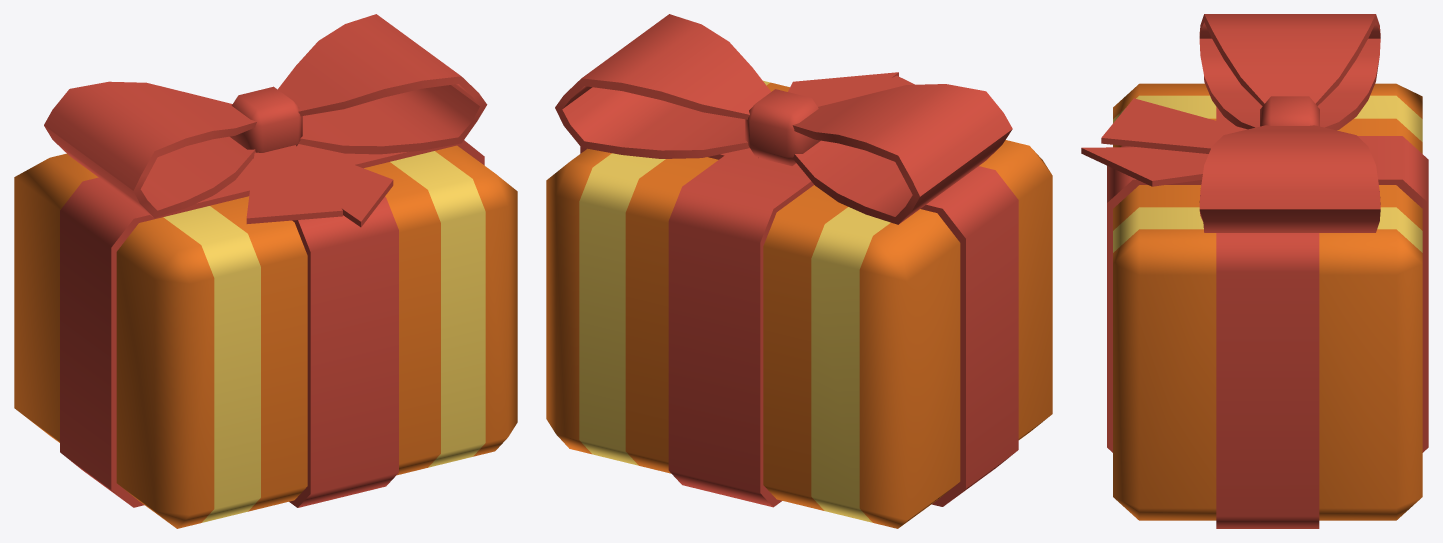
The model's file is Gift_13_231109.glb.
3 views of the same model, side by side, from view 1: azimuth 30°, elevation 25°; view 2: azimuth 150°, elevation 25°; view 3: azimuth 270°, elevation 25° (orthographic). The views are drawn at different scales.
Parts seen in each view (by area): view 1: Gift_13; view 2: Gift_13; view 3: Gift_13.
Part boxes in pixels (left/top/right/bottom): Gift_13: left=14, top=14, right=517, bottom=528; Gift_13: left=546, top=14, right=1052, bottom=528; Gift_13: left=1081, top=14, right=1428, bottom=528.
Size of the model in its own units: 0.5129 by 0.4708 by 0.4095.
Materials: 1 (1 with a texture image).
